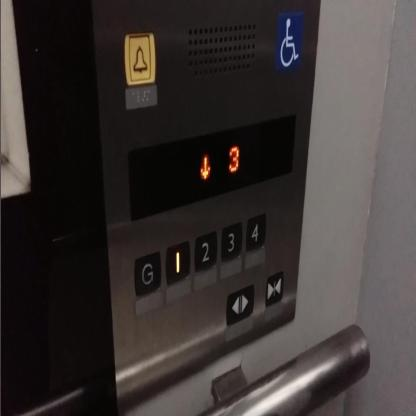1: (165, 240, 190, 286)
2: (194, 232, 217, 272)
3: (220, 221, 242, 261)
4: (245, 214, 267, 252)
CH: (276, 9, 304, 71)
G: (132, 250, 164, 297)
alarm: (122, 31, 158, 87)
close: (264, 269, 284, 306)
led: (128, 113, 296, 222)
open: (226, 280, 255, 324)
